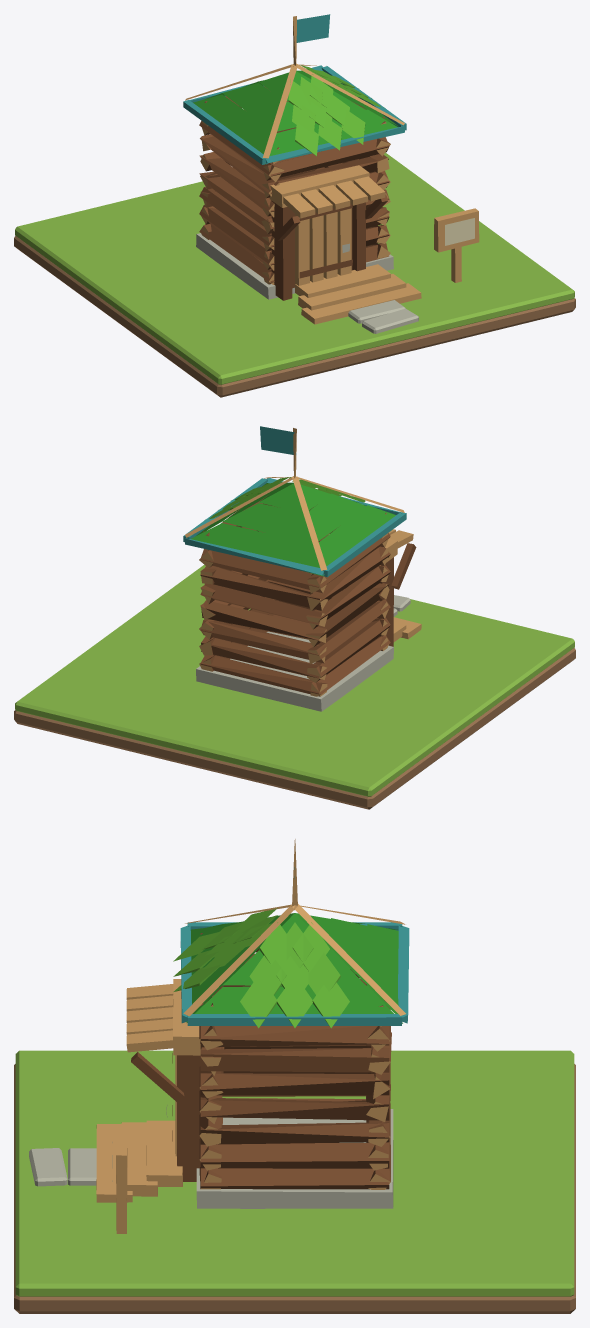
File: town_hall_l02_active_LOD2.glb
The picture shows the model from 3 angles, top to bottom: view 1: azimuth 30°, elevation 25°; view 2: azimuth 150°, elevation 25°; view 3: azimuth 270°, elevation 25°; orthographic projection. The views are drawn at different scales.
Parts seen in each view (by area): view 1: town_hall_l02_active_grass_tile.001, town_hall_l02_active_foundation.001, town_hall_l02_active_earth_tile.001, town_hall_l02_active_path_stone.005, town_hall_l02_active_path_stone.004; view 2: town_hall_l02_active_grass_tile.001, town_hall_l02_active_foundation.001, town_hall_l02_active_earth_tile.001; view 3: town_hall_l02_active_grass_tile.001, town_hall_l02_active_foundation.001, town_hall_l02_active_earth_tile.001, town_hall_l02_active_path_stone.005, town_hall_l02_active_path_stone.004.
Boxes of the visible parts, box(x1,y1,x2,y2) form: town_hall_l02_active_grass_tile.001: box(15, 152, 574, 384); town_hall_l02_active_foundation.001: box(183, 14, 479, 324); town_hall_l02_active_earth_tile.001: box(14, 236, 575, 397); town_hall_l02_active_path_stone.005: box(362, 308, 418, 333); town_hall_l02_active_path_stone.004: box(348, 300, 405, 323); town_hall_l02_active_grass_tile.001: box(15, 564, 574, 796); town_hall_l02_active_foundation.001: box(183, 426, 421, 711); town_hall_l02_active_earth_tile.001: box(14, 648, 575, 809); town_hall_l02_active_grass_tile.001: box(15, 1050, 574, 1296); town_hall_l02_active_foundation.001: box(96, 839, 409, 1233); town_hall_l02_active_earth_tile.001: box(14, 1064, 575, 1313); town_hall_l02_active_path_stone.005: box(29, 1148, 67, 1186); town_hall_l02_active_path_stone.004: box(68, 1148, 96, 1185).
Bounding box in the file's own units: 3.6 × 2.53 × 3.6.
